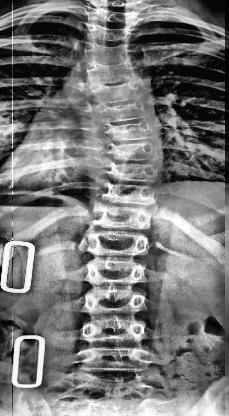Vertebrae: (78, 286, 151, 314), (77, 318, 153, 344), (77, 348, 158, 372), (82, 230, 154, 257), (77, 62, 146, 88), (84, 258, 148, 286), (80, 23, 142, 51), (94, 142, 166, 165), (96, 120, 164, 144), (77, 42, 135, 68), (94, 101, 156, 124), (94, 184, 162, 204), (89, 208, 155, 228), (92, 162, 161, 181), (87, 80, 145, 102), (84, 7, 136, 30)
